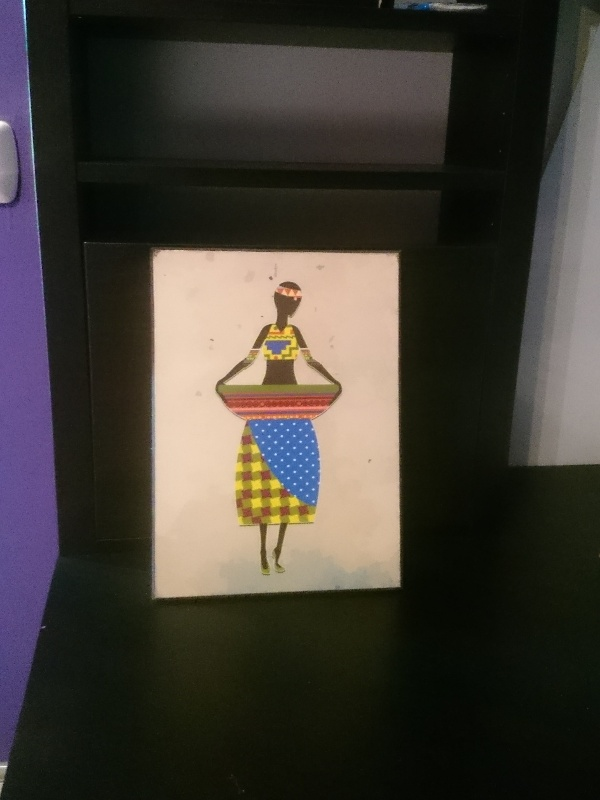my image: (153, 254, 397, 599)
